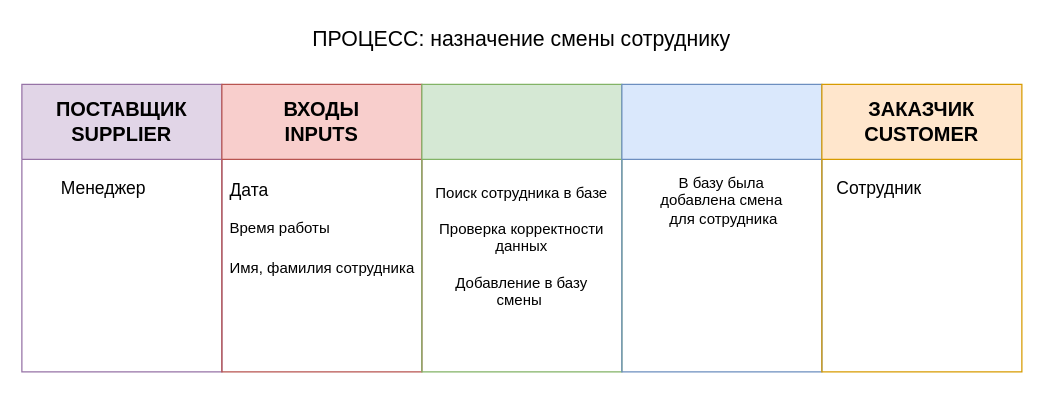
This 1044x394 diagram has some shape labels left out. Each missing label, with the box of its shape:
ВЫХОДЫ OUTPUTS: (621, 83, 822, 372)
ПРОЦЕСС PROCESS: (421, 83, 622, 372)
